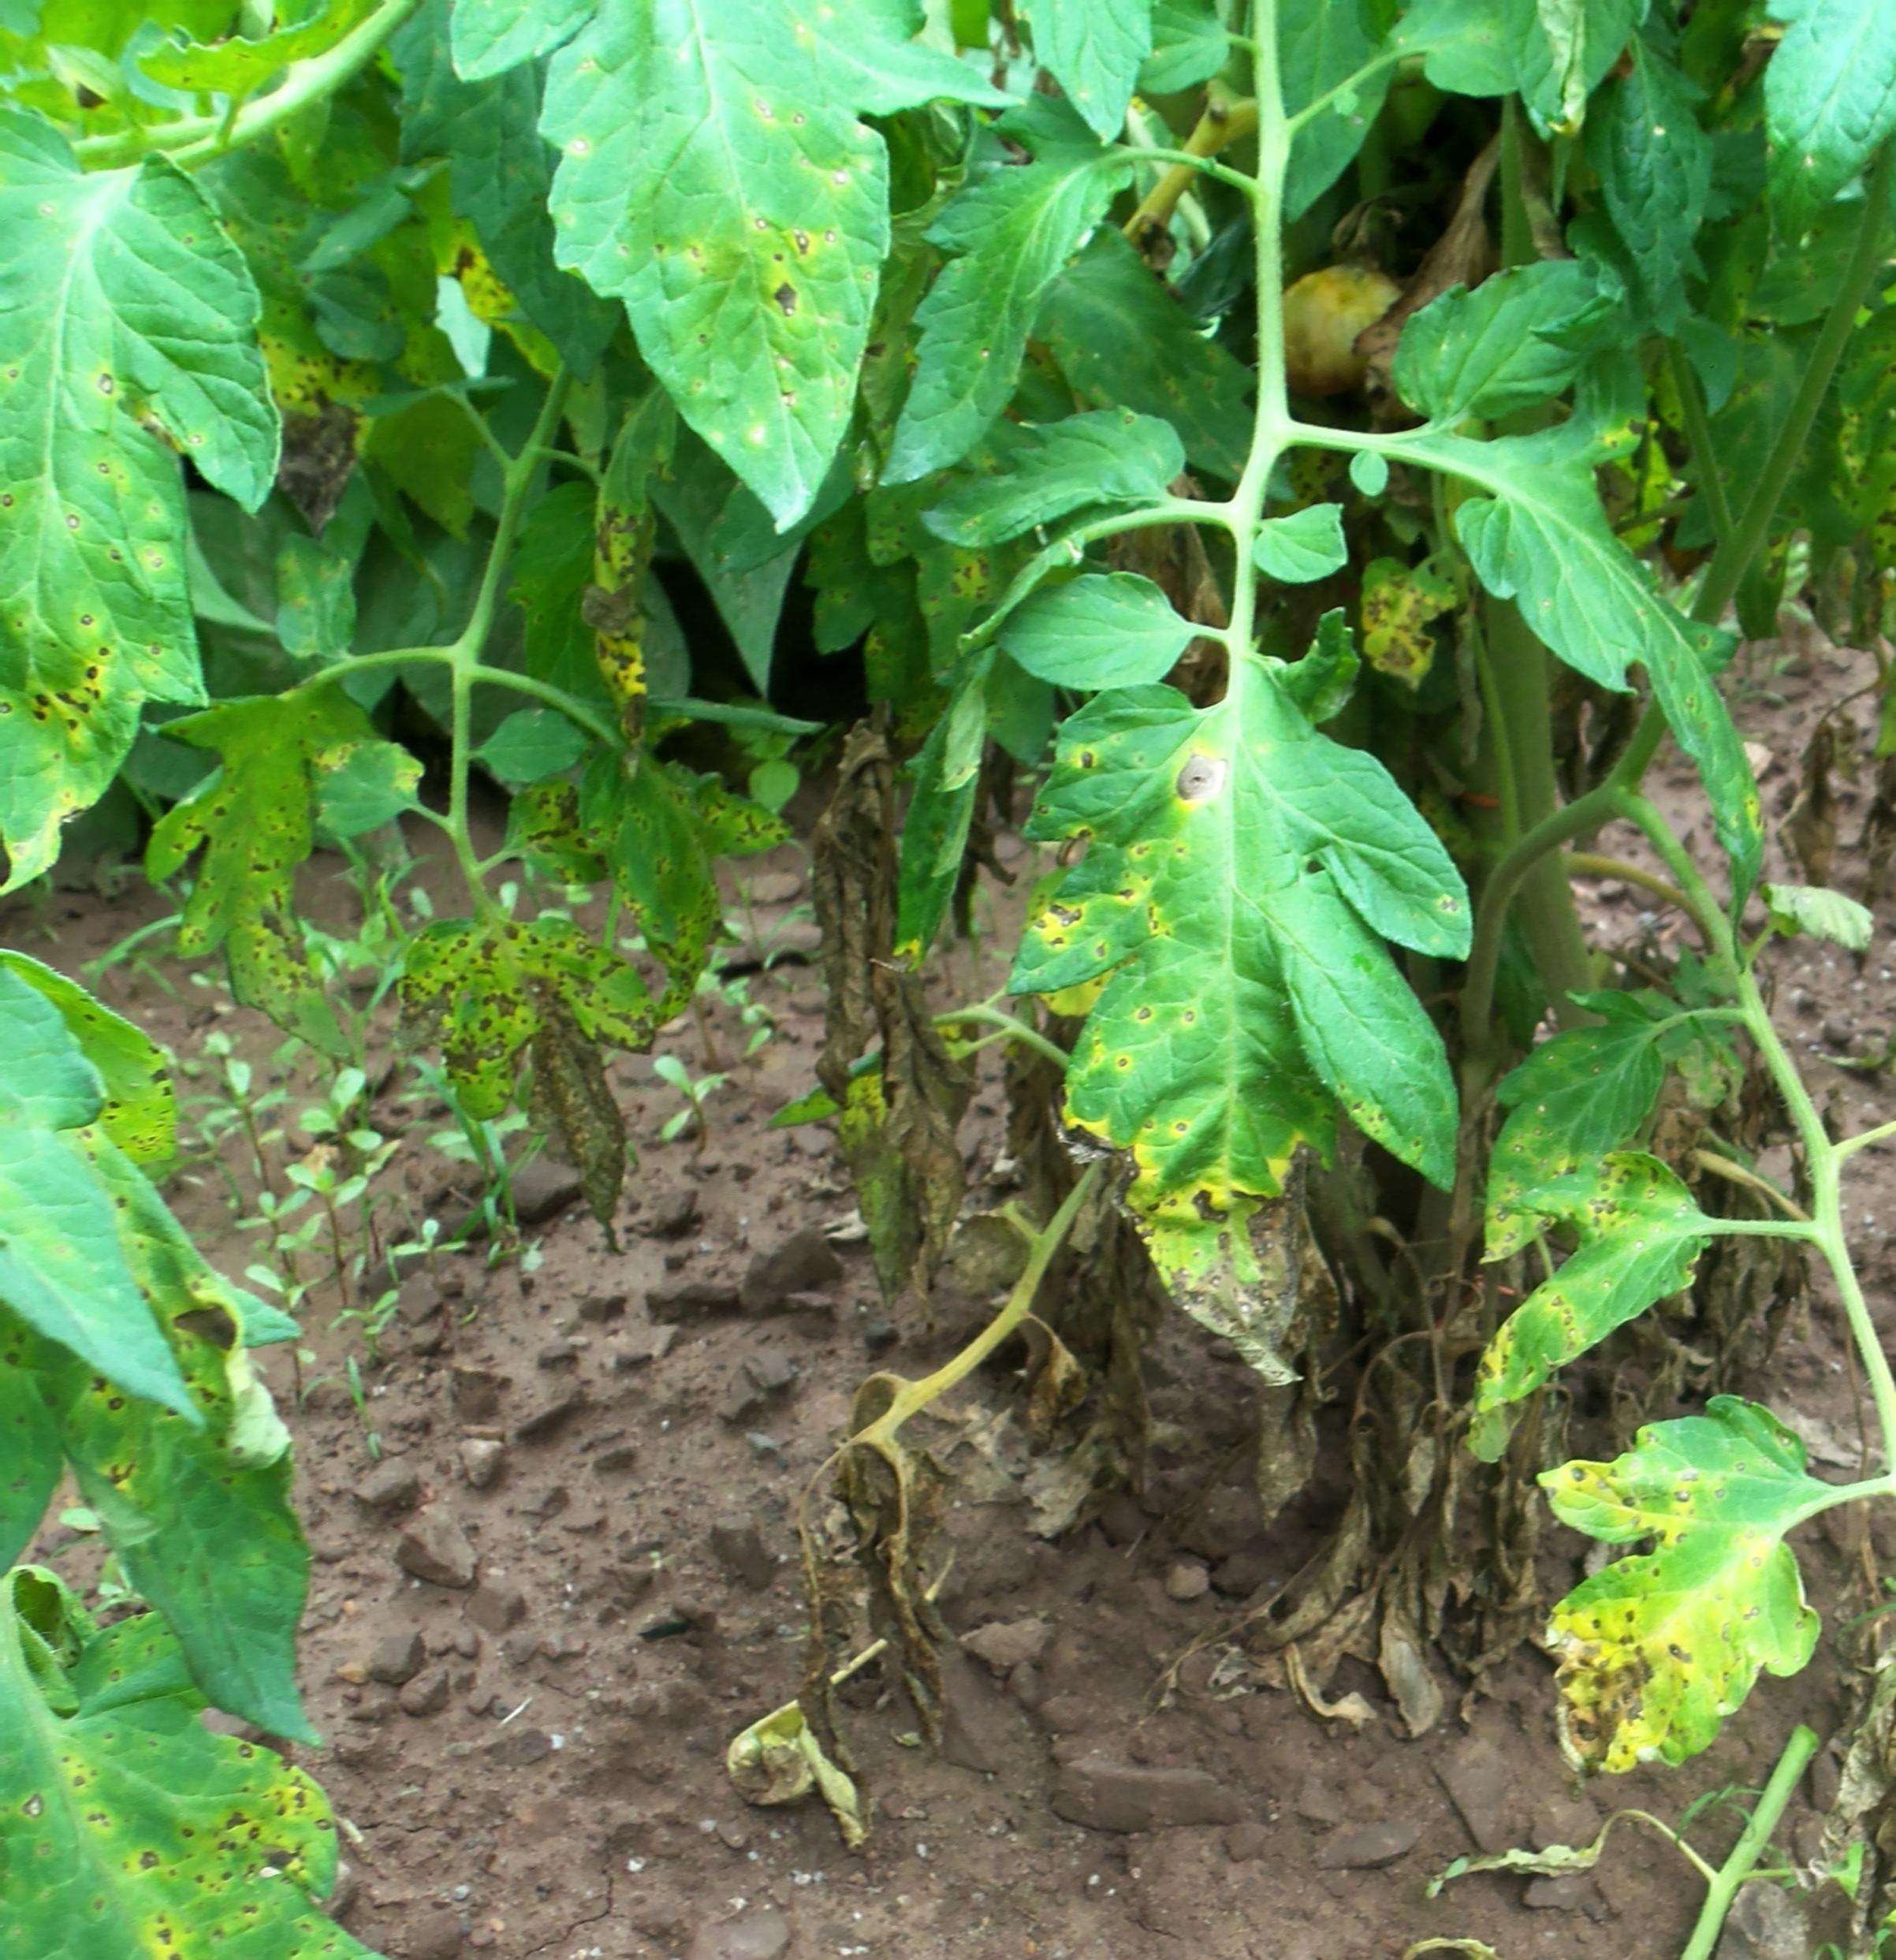Tomato Septoria leaf spot: (1000, 633, 1464, 1358), (457, 0, 951, 574), (0, 147, 311, 905), (0, 1578, 457, 1960), (1520, 1379, 1858, 1788), (1471, 1179, 1707, 1407)
